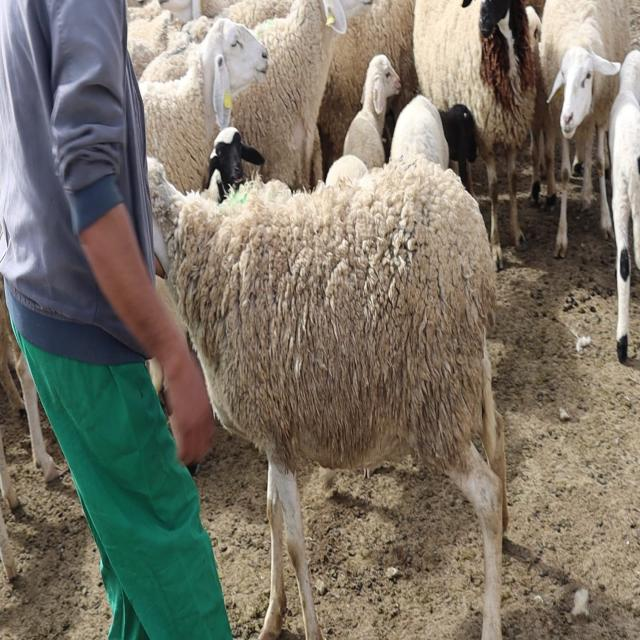Score_2: (148, 155, 508, 639)
